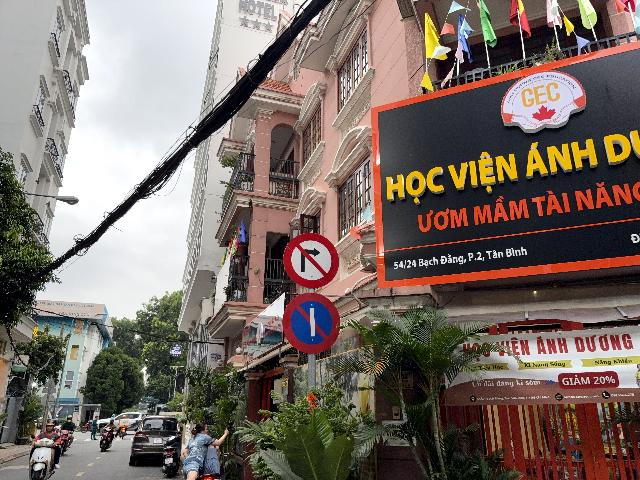cam-do-xe-ngay-le: (282, 292, 340, 354)
cam-re-phai: (283, 232, 340, 289)
